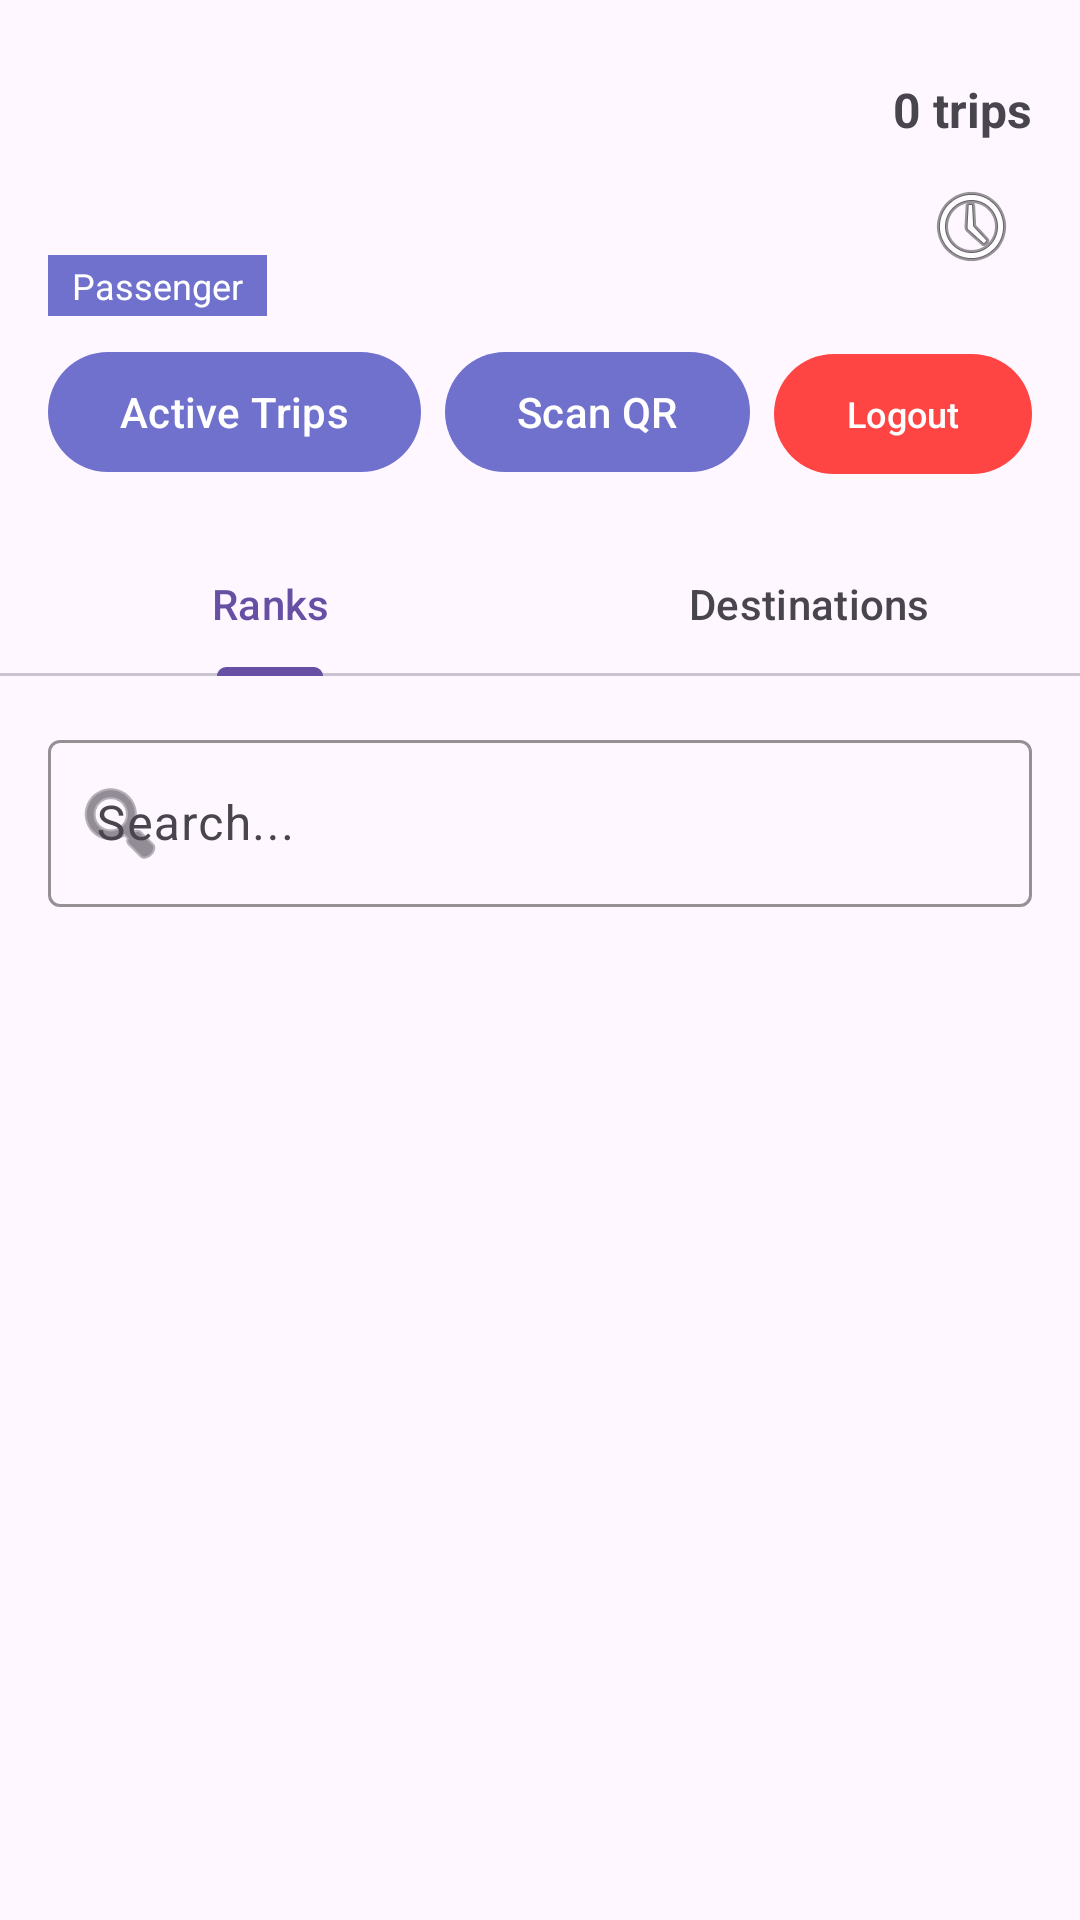

Named icons in this screenshot (1080x1920) and their centers, [x,y]:
Trip history: [971,226]
